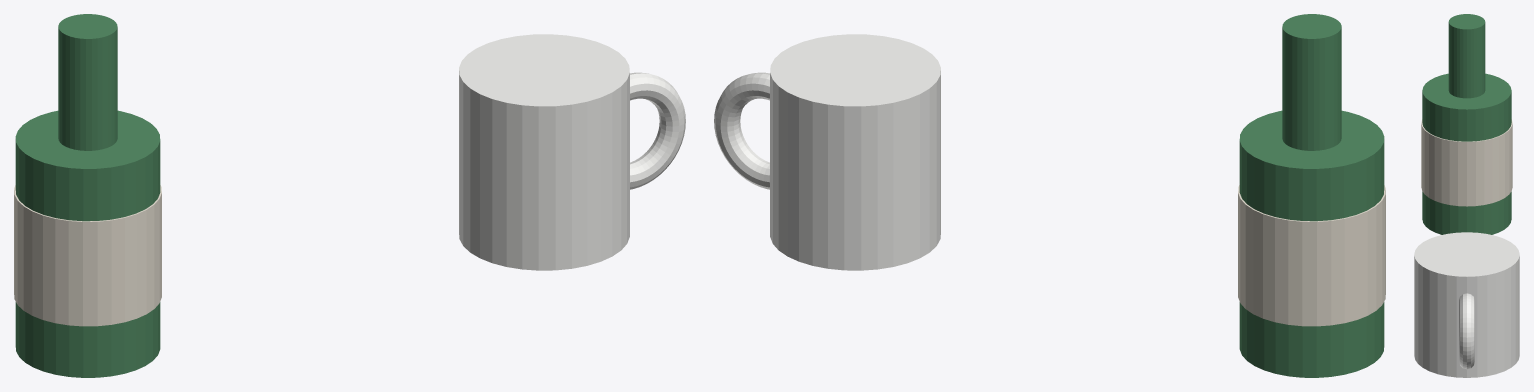
File: tool_throwables.fbx
3 renders of one model, left to right at view 1: azimuth 30°, elevation 25°; view 2: azimuth 150°, elevation 25°; view 3: azimuth 270°, elevation 25°, orthographic. The views are drawn at different scales.
Parts seen in each view (by area): view 1: CoffeeMug_Body, WineBottle_Body, WineBottle_Label, WineBottle_Neck, CoffeeMug_Handle; view 2: CoffeeMug_Body, WineBottle_Body, WineBottle_Label, WineBottle_Neck, CoffeeMug_Handle; view 3: CoffeeMug_Body, WineBottle_Body, WineBottle_Label, WineBottle_Neck, CoffeeMug_Handle.
Part boxes in pixels (x1=…): CoffeeMug_Body: x1=459, y1=34, x2=629, y2=270; WineBottle_Body: x1=15, y1=110, x2=160, y2=377; WineBottle_Label: x1=14, y1=185, x2=161, y2=326; WineBottle_Neck: x1=58, y1=14, x2=117, y2=150; CoffeeMug_Handle: x1=630, y1=72, x2=685, y2=189; CoffeeMug_Body: x1=770, y1=34, x2=940, y2=270; WineBottle_Body: x1=1239, y1=110, x2=1384, y2=377; WineBottle_Label: x1=1238, y1=185, x2=1385, y2=326; WineBottle_Neck: x1=1282, y1=14, x2=1341, y2=150; CoffeeMug_Handle: x1=714, y1=72, x2=769, y2=189; CoffeeMug_Body: x1=1414, y1=232, x2=1519, y2=377; WineBottle_Body: x1=1422, y1=73, x2=1511, y2=234; WineBottle_Label: x1=1421, y1=119, x2=1512, y2=206; WineBottle_Neck: x1=1448, y1=14, x2=1485, y2=98; CoffeeMug_Handle: x1=1459, y1=293, x2=1474, y2=369.
Size of the model in its own units: 2.32 by 1.08 by 0.52.
